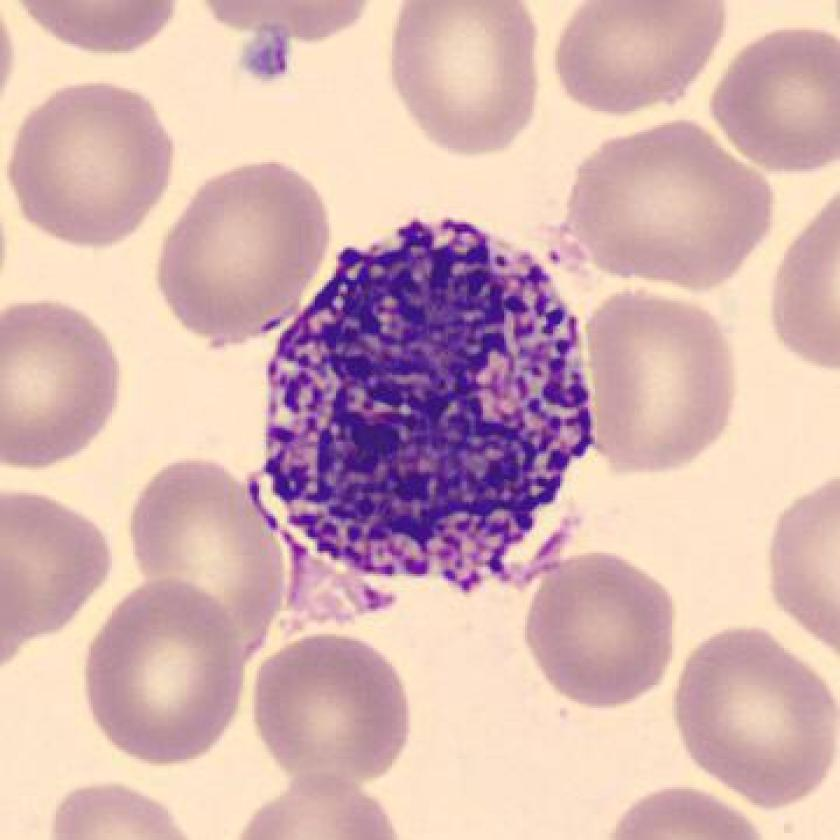basophil: (260, 219, 587, 591)
